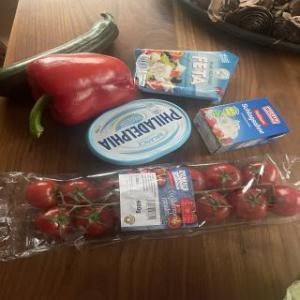bell_pepper: (21, 48, 142, 138)
tomato: (68, 202, 120, 238), (256, 180, 300, 222), (221, 188, 271, 224), (33, 202, 77, 241), (202, 159, 250, 193), (192, 190, 234, 228), (22, 178, 68, 210), (58, 172, 100, 206), (240, 158, 278, 186)
zucchini: (1, 6, 123, 106)
